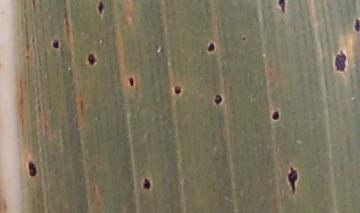tarspot: (287, 167, 298, 193), (335, 49, 347, 72), (26, 160, 38, 177), (141, 176, 152, 190), (87, 53, 97, 65), (51, 38, 61, 49), (213, 93, 222, 105), (271, 109, 280, 121), (278, 1, 286, 14), (173, 85, 182, 95), (354, 18, 360, 33), (207, 41, 215, 52), (98, 1, 104, 15), (128, 76, 135, 87), (23, 53, 31, 61), (240, 34, 246, 42), (31, 1, 37, 8)
